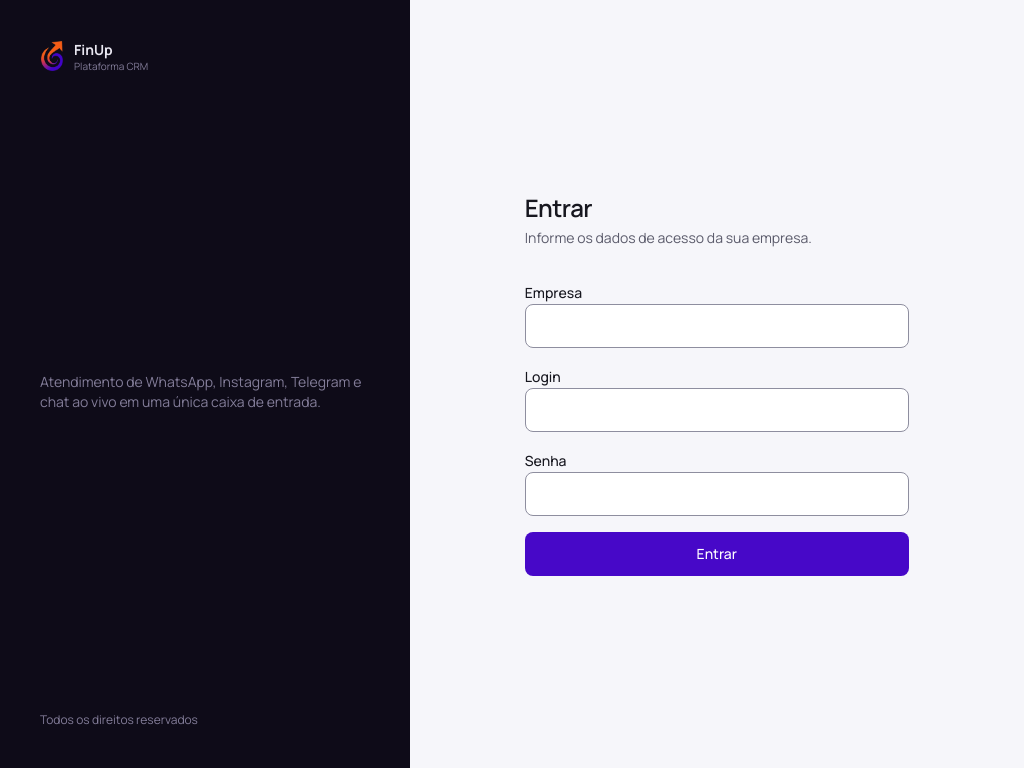
Test: entrada e segundo fator › mantém falha de credencial indistinguível
The image size is (1024, 768).
Expected: the picture named "FinUp, Plataforma CRM" is shown, x1=40 y1=40 x2=148 y2=73
In the field labelled "Empresa": x=717, y=326 x1=525 y1=304 x2=909 y2=348, type "pnp"
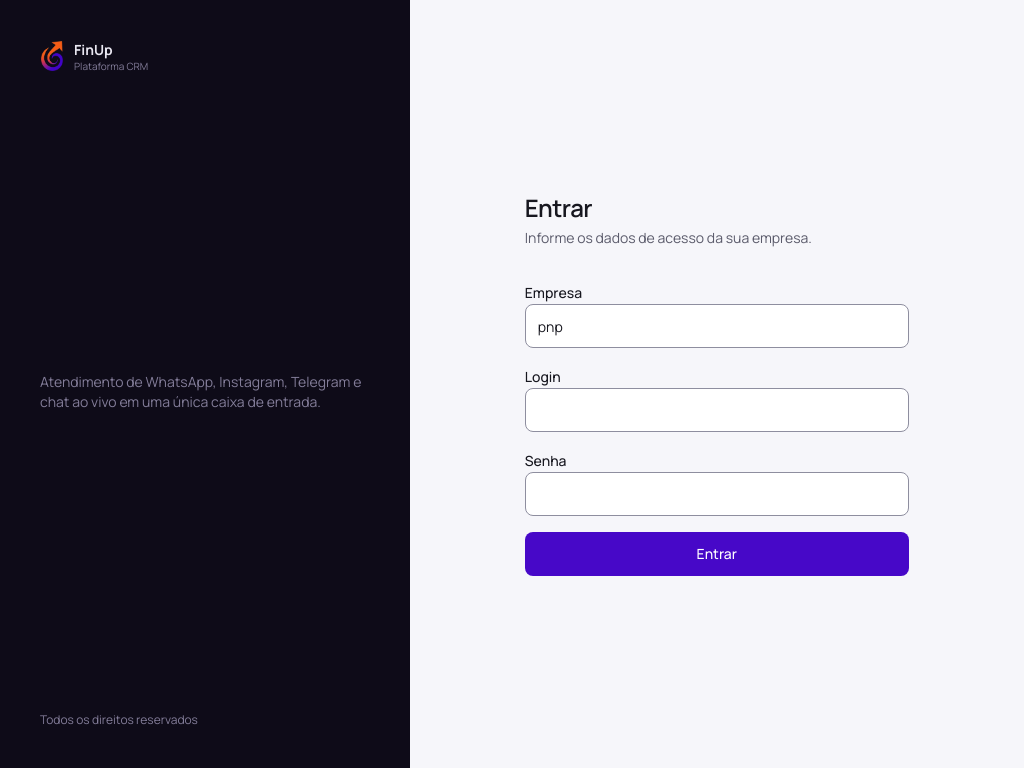
In the field labelled "Login": x=717, y=410 x1=525 y1=388 x2=909 y2=432, type "alguem"
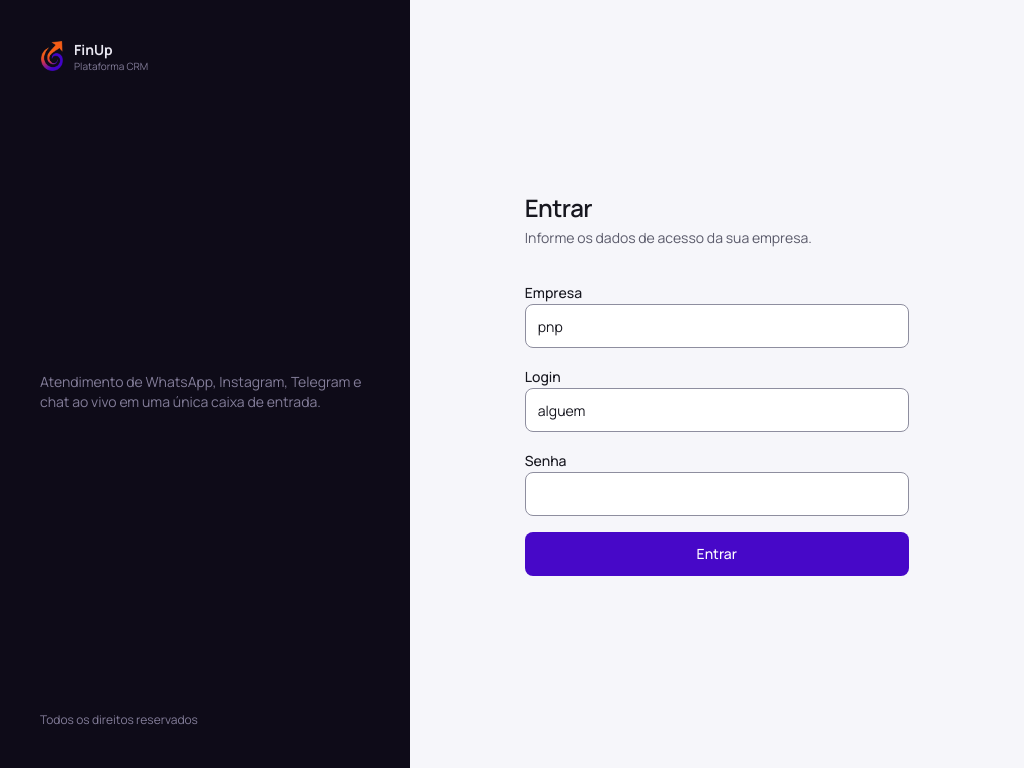
In the password field labelled "Senha": x=717, y=494 x1=525 y1=472 x2=909 y2=516, type "irrelevante-para-o-mock"
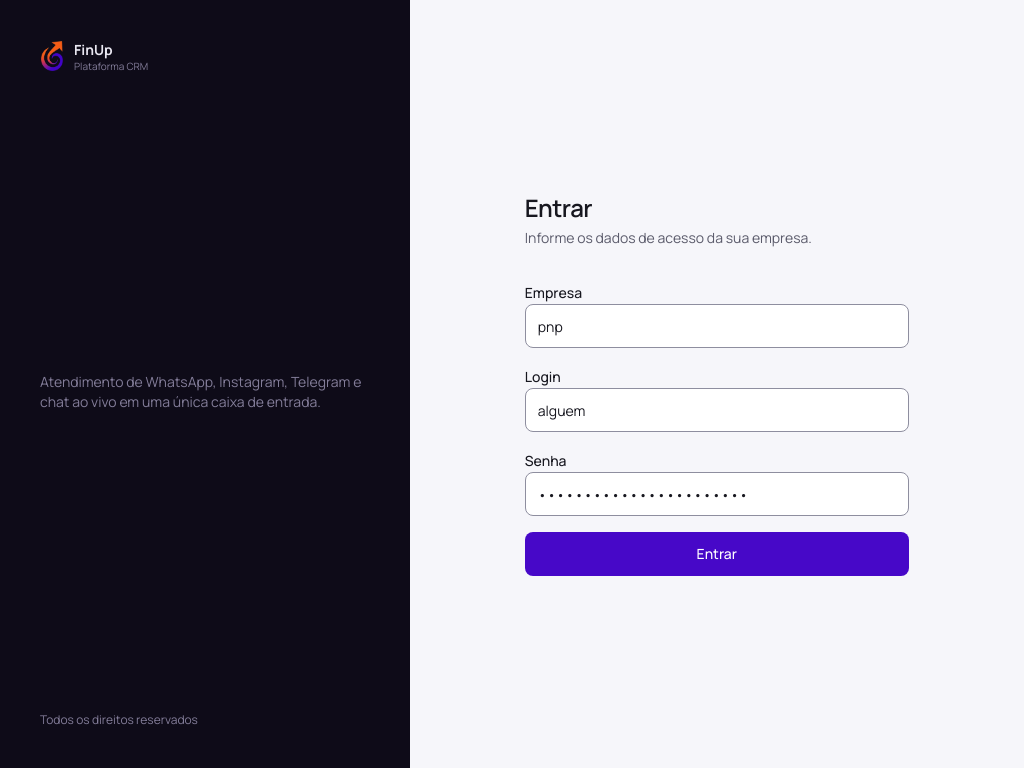
Click the button "Entrar": x=717, y=554 x1=525 y1=532 x2=909 y2=576
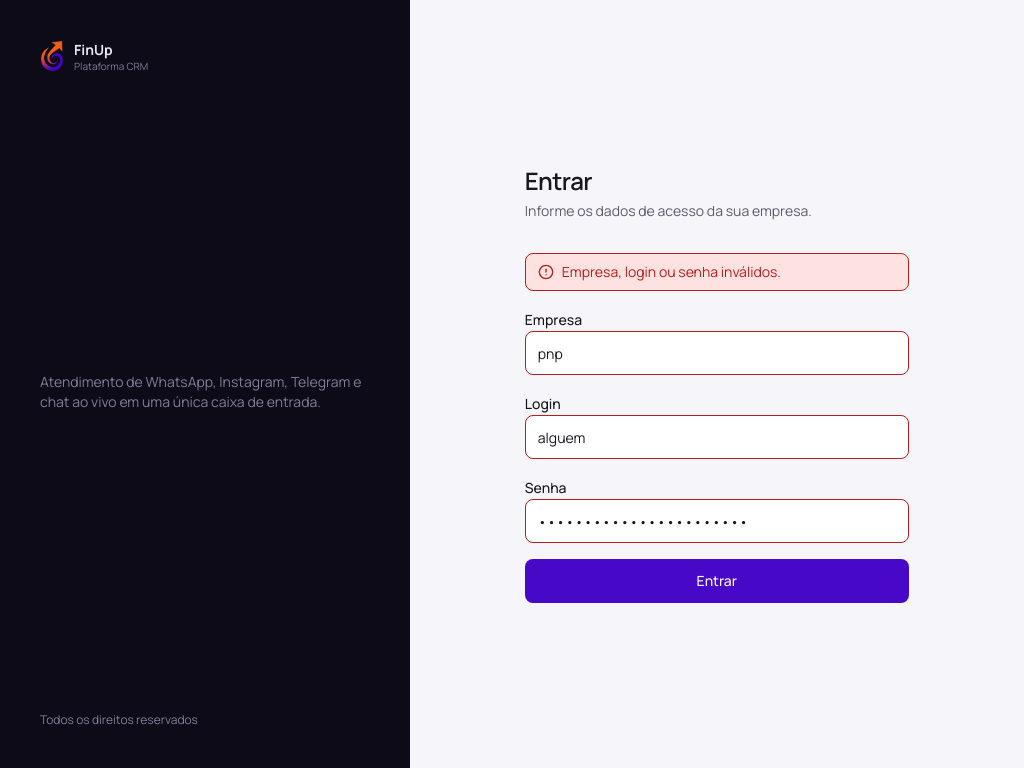
Now the text "Empresa, login ou senha inválidos." is shown, box x1=562 y1=262 x2=781 y2=282
